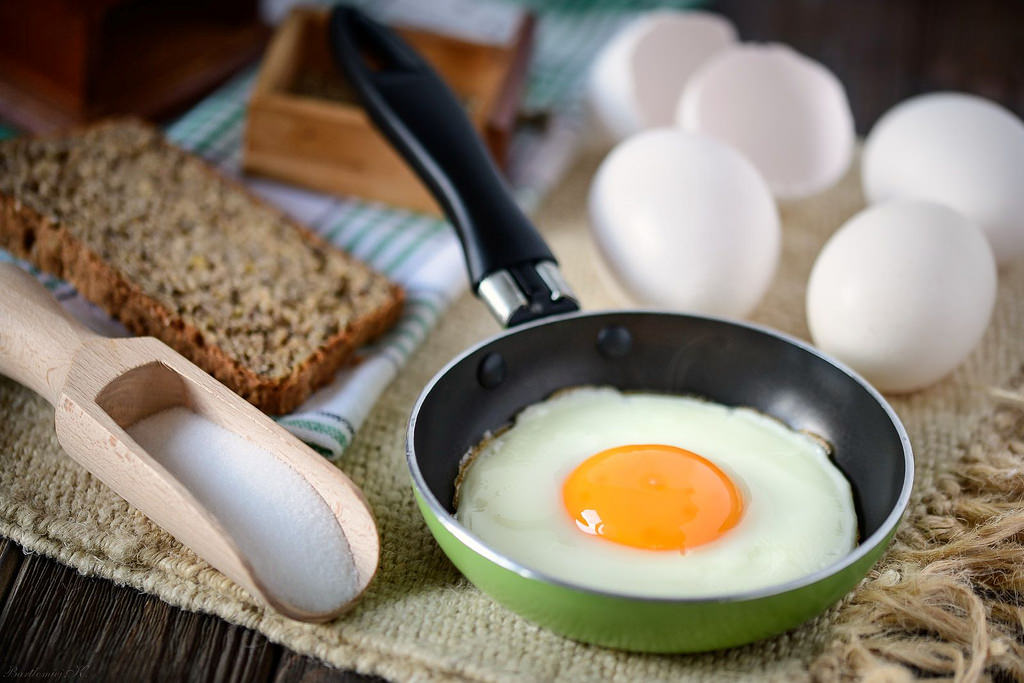fried egg: (436, 370, 867, 594)
slice of bread: (7, 111, 416, 414)
